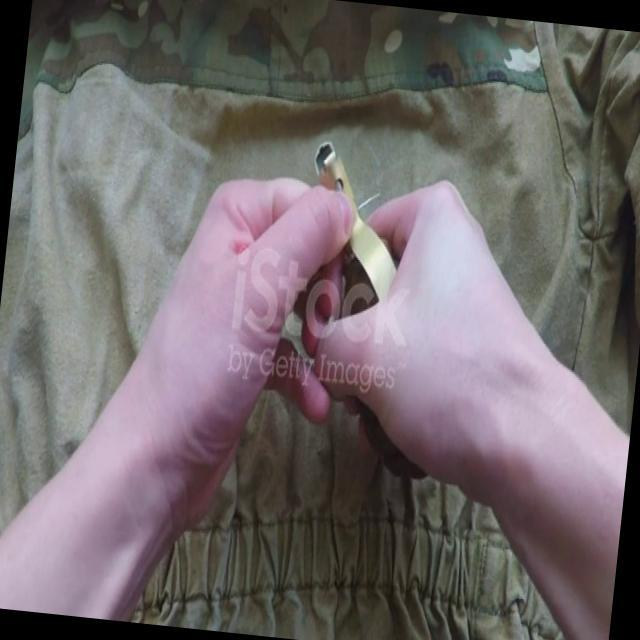grenade: (289, 130, 466, 478)
